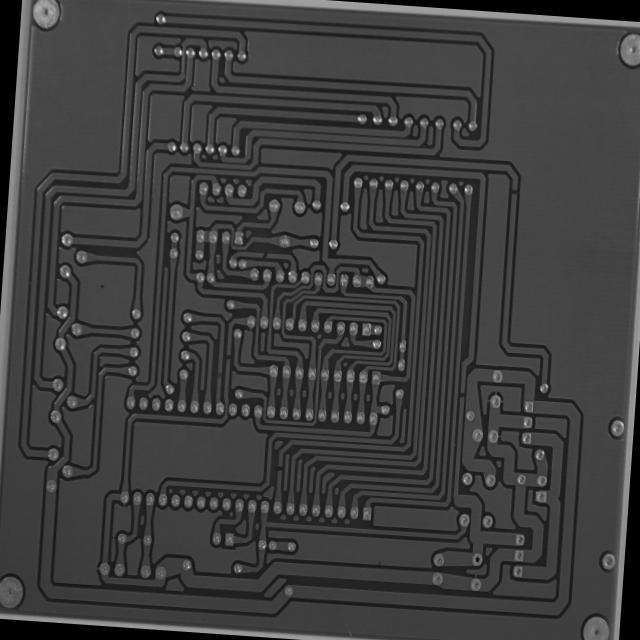open_circuit: (258, 248, 269, 260), (274, 462, 284, 474), (509, 184, 518, 197), (224, 352, 231, 362), (458, 389, 464, 399)
